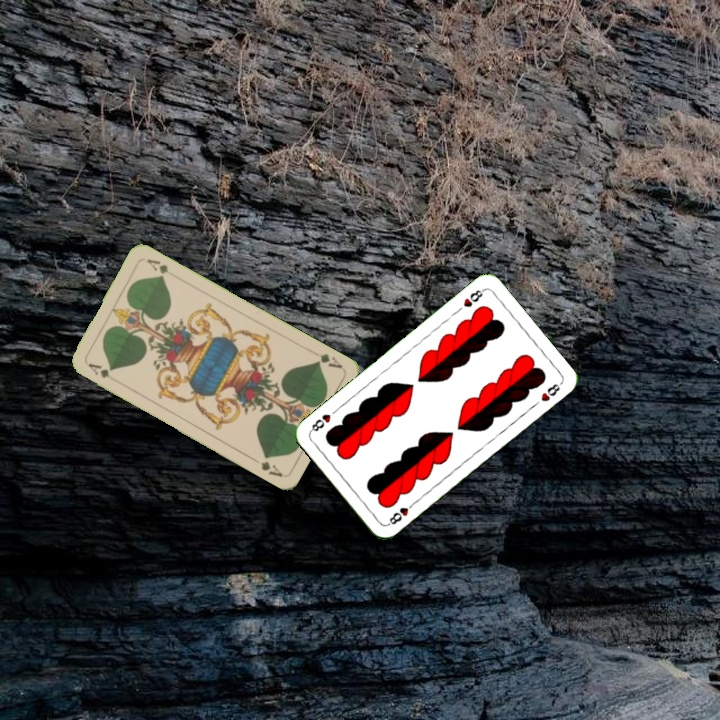GA: (84, 359, 120, 385), (311, 350, 345, 371)
H8: (383, 498, 418, 528), (459, 285, 487, 310)
